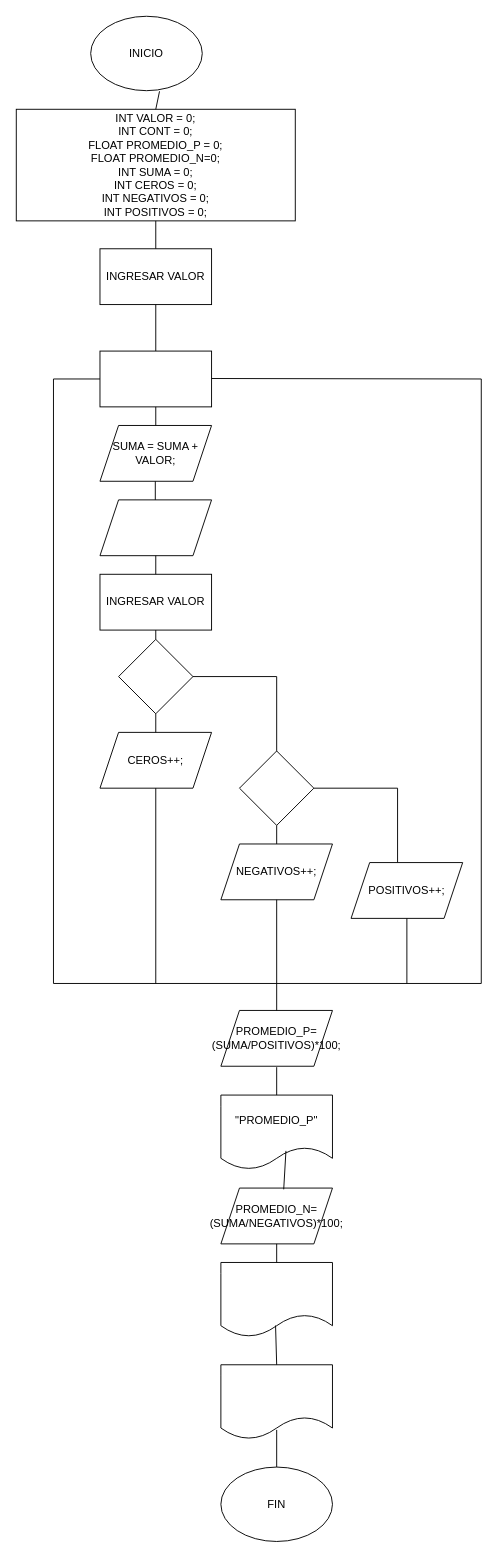
Some shapes in this 498 by 1558 pixel diagram are drawn without their labels. The centre of each missing label's shape, as x and y in pixels:
"CEROS": [276,1401]
"PROMEDIO_N": [276,1299]
CONT++;: [155,527]
VALOR != 0: [155,378]
VALOR < 0: [276,787]
VALOR == 0: [155,676]
